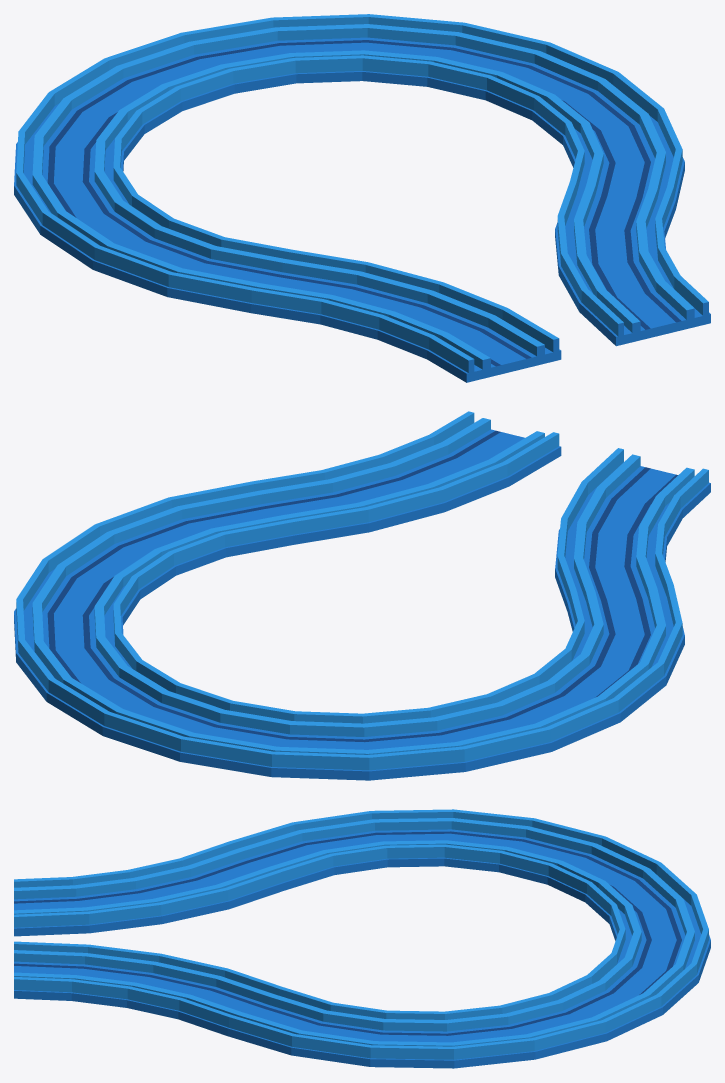
Rendered from Track_UTurn.fbx.
3 views of the same model, one above another, from view 1: azimuth 30°, elevation 25°; view 2: azimuth 150°, elevation 25°; view 3: azimuth 270°, elevation 25° (orthographic). The views are drawn at different scales.
Parts seen in each view (by area): view 1: Molded blue rail; view 2: Molded blue rail; view 3: Molded blue rail.
Boxes of the visible parts, x1=… form: Molded blue rail: x1=14, y1=14, x2=710, y2=382; Molded blue rail: x1=14, y1=411, x2=710, y2=780; Molded blue rail: x1=14, y1=809, x2=710, y2=1068.
Size of the model in its own units: 646 by 23.21 by 789.
